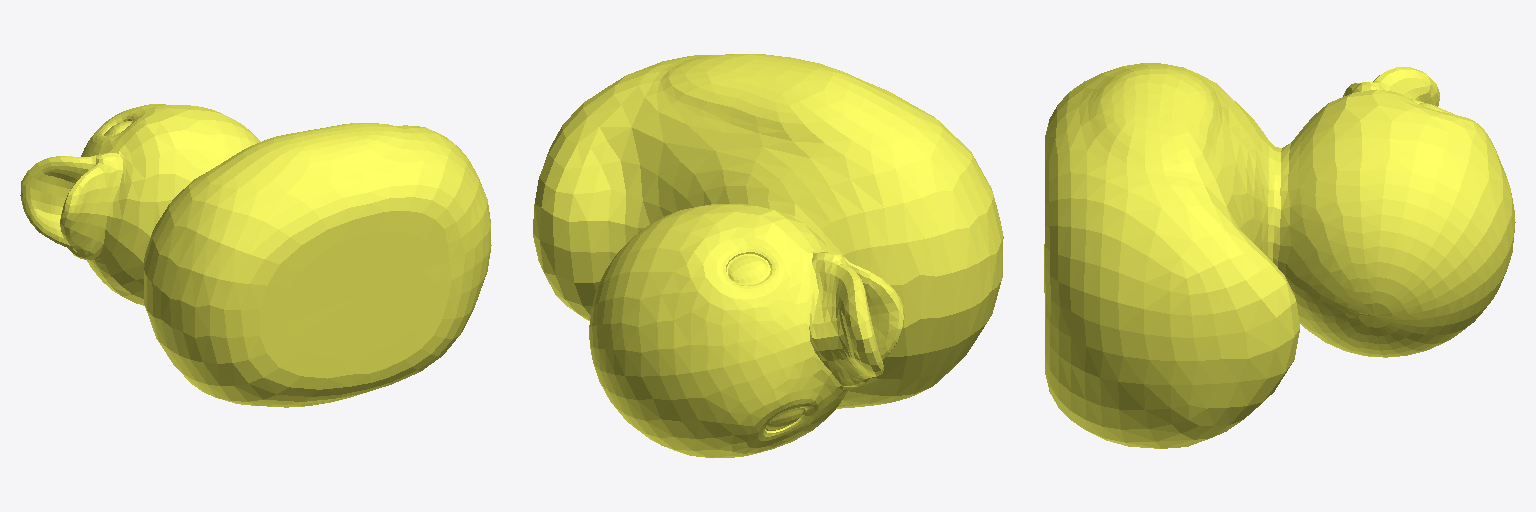
The robot description file, URDF, robot "cube.urdf":
<?xml version="0.0" ?>
<robot name="cube.urdf">
  <link name="baseLink">
    <contact>
      <lateral_friction value="1.0"/>
      <rolling_friction value="0.0"/>
      <contact_cfm value="0.0"/>
      <contact_erp value="1.0"/>
    </contact>
    <inertial>
      <origin rpy="0 0 0" xyz="0.0 0.02 0.0"/>
       <mass value=".1"/>
       <inertia ixx="1" ixy="0" ixz="0" iyy="1" iyz="0" izz="1"/>
    </inertial>
    <visual>
      <origin rpy="0 0 0" xyz="0 0 0"/>
      <geometry>
        <mesh filename="duck.obj"/>
      </geometry>
       <material name="yellow">
        <color rgba="1 1 0.4 1"/>
      </material>
    </visual>
    <collision>
      <origin rpy="0 0 0" xyz="0 0 0"/>
      <geometry>
	 	<mesh filename="duck_vhacd.obj"/>
      </geometry>
    </collision>
  </link>
</robot>

--- Render facts (derived) ---
The picture shows the robot from 3 angles, left to right: view 1: azimuth 30°, elevation 25°; view 2: azimuth 150°, elevation 25°; view 3: azimuth 270°, elevation 25°; orthographic projection.
Model cube.urdf with 1 links and 0 joints (none), rooted at baseLink, posed every joint at zero.
Visible links, largest first — view 1: baseLink; view 2: baseLink; view 3: baseLink.
Boxes of the visible links, left/top/right/bottom form: baseLink: left=20, top=104, right=491, bottom=407; baseLink: left=533, top=54, right=1003, bottom=457; baseLink: left=1044, top=63, right=1515, bottom=448.
Bounding box of the posed robot: 0.0824 × 0.0767 × 0.0575 m (x, y, z).
Meshes: 1 distinct files referenced, 1 mesh visuals loaded (1 OBJ).